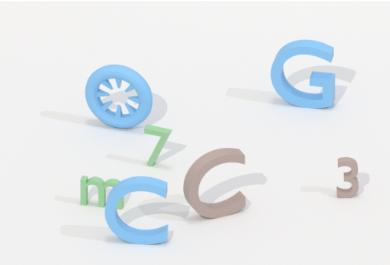0-TronLo: (82, 59, 155, 132)
3: (333, 153, 363, 203)
7: (142, 122, 175, 170)
C: (181, 143, 251, 223), (103, 173, 173, 249)
g: (267, 35, 341, 114)
m: (78, 171, 125, 212)
